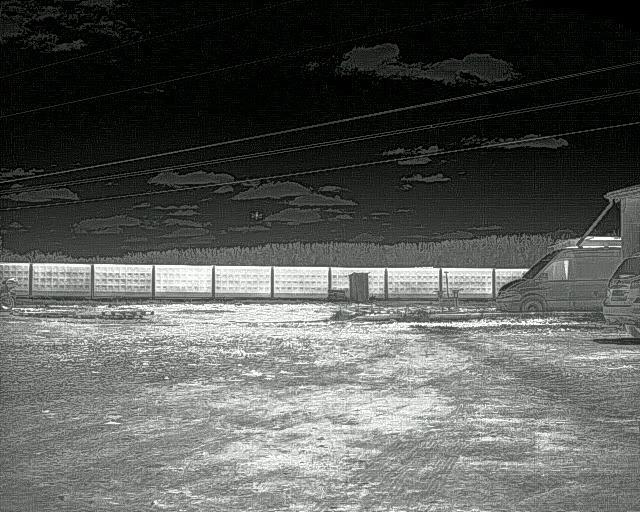ufo-thermal: (249, 208, 264, 221)
